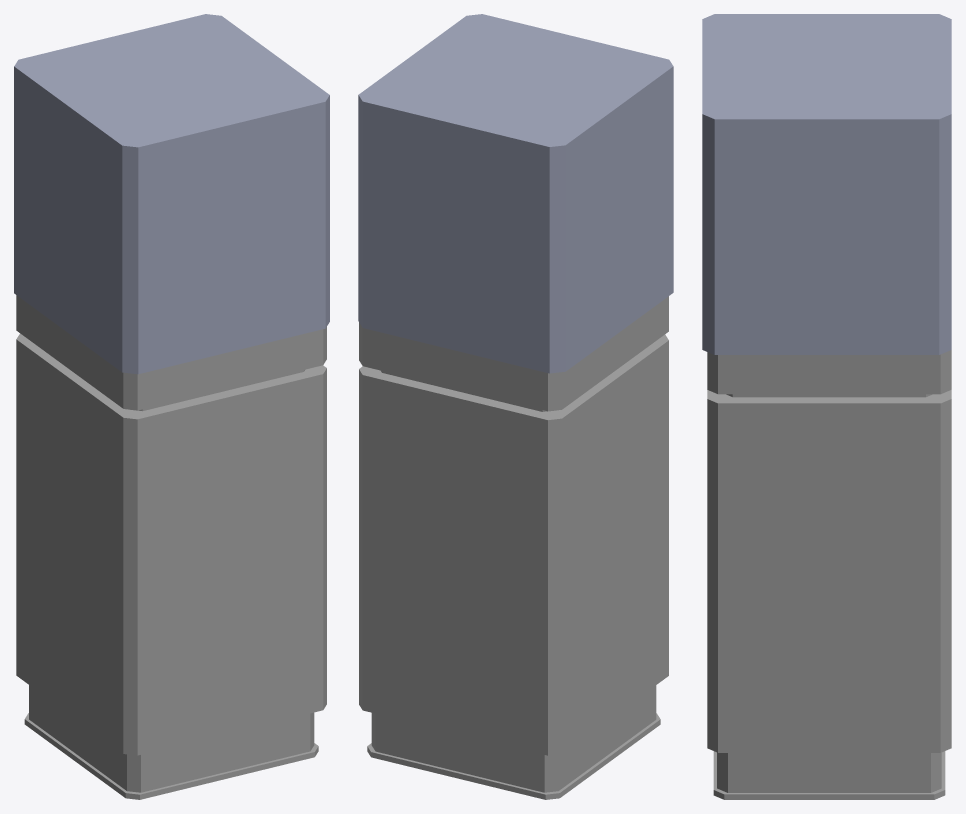
The model's file is SM_pedestal.fbx.
3 renders of one model, left to right at view 1: azimuth 30°, elevation 25°; view 2: azimuth 150°, elevation 25°; view 3: azimuth 270°, elevation 25°, orthographic. The views are drawn at different scales.
Parts seen in each view (by area): view 1: stand, case1; view 2: stand, case1; view 3: stand, case1.
Boxes of the visible parts, box(x1,y1,x2,y2) form: stand: box(16, 295, 326, 799); case1: box(14, 14, 329, 374); stand: box(359, 296, 668, 799); case1: box(358, 14, 673, 373); stand: box(707, 350, 951, 799); case1: box(702, 14, 951, 354).
Bounding box in the file's own units: 102 × 309 × 102.
